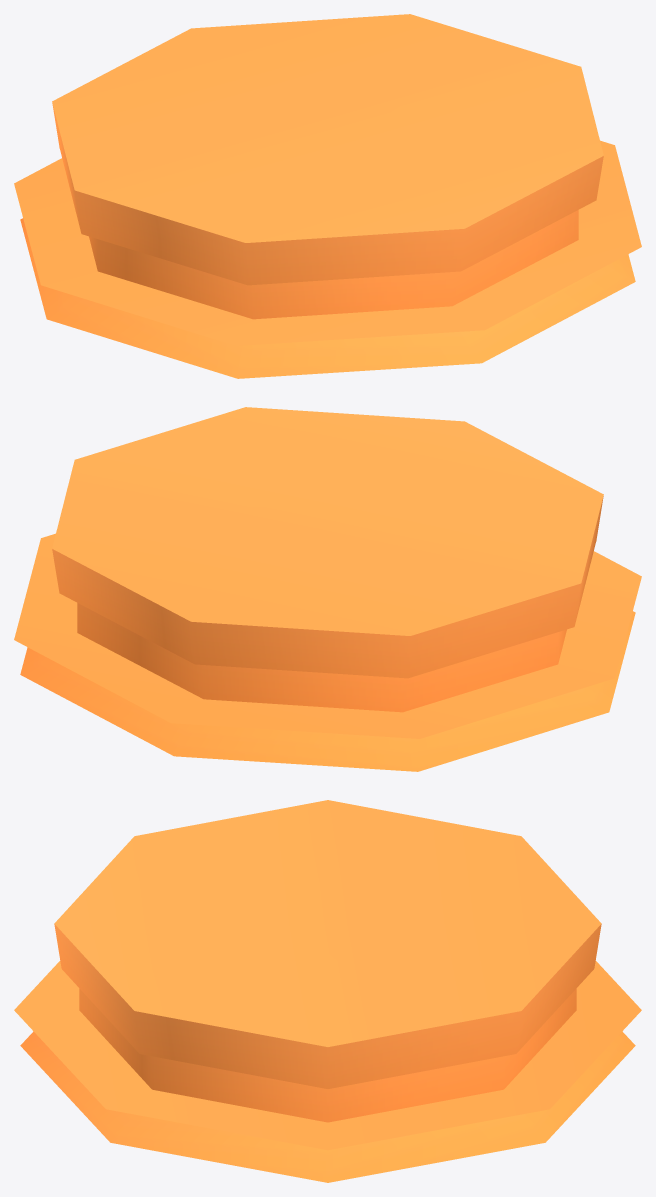
The model's file is bronze_guard_083.glb.
3 views of the same model, one above another, from view 1: azimuth 30°, elevation 25°; view 2: azimuth 150°, elevation 25°; view 3: azimuth 270°, elevation 25° (orthographic).
Parts seen in each view (by area): view 1: bronze_guard_083; view 2: bronze_guard_083; view 3: bronze_guard_083.
Boxes of the visible parts, x1=… form: bronze_guard_083: x1=14, y1=14, x2=641, y2=378; bronze_guard_083: x1=14, y1=407, x2=641, y2=771; bronze_guard_083: x1=14, y1=800, x2=641, y2=1182.
Size of the model in its own units: 4.9 by 0.9958 by 4.64.
1 material, 1 textured.
